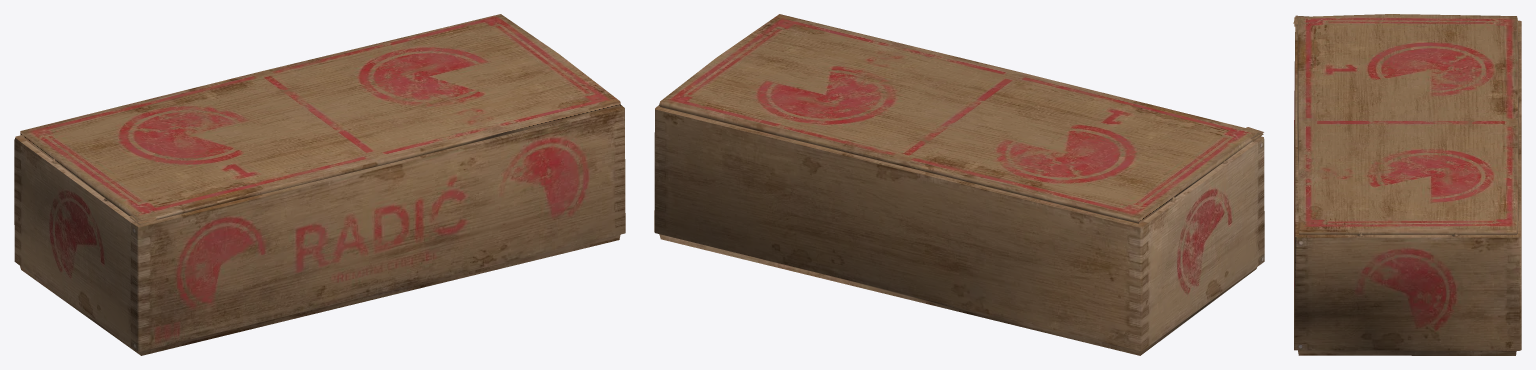
File: CheeseBox_01.glb
3 views of the same model, side by side, from view 1: azimuth 30°, elevation 25°; view 2: azimuth 150°, elevation 25°; view 3: azimuth 270°, elevation 25° (orthographic). The views are drawn at different scales.
Visible parts, largest first — view 1: CheeseBox_01; view 2: CheeseBox_01; view 3: CheeseBox_01.
Boxes of the visible parts, left/top/right/bottom form: CheeseBox_01: left=14, top=14, right=625, bottom=355; CheeseBox_01: left=654, top=14, right=1264, bottom=355; CheeseBox_01: left=1293, top=14, right=1521, bottom=355.
Size of the model in its own units: 0.2402 by 0.0658 by 0.1065.
Materials: 1 (1 with a texture image).
